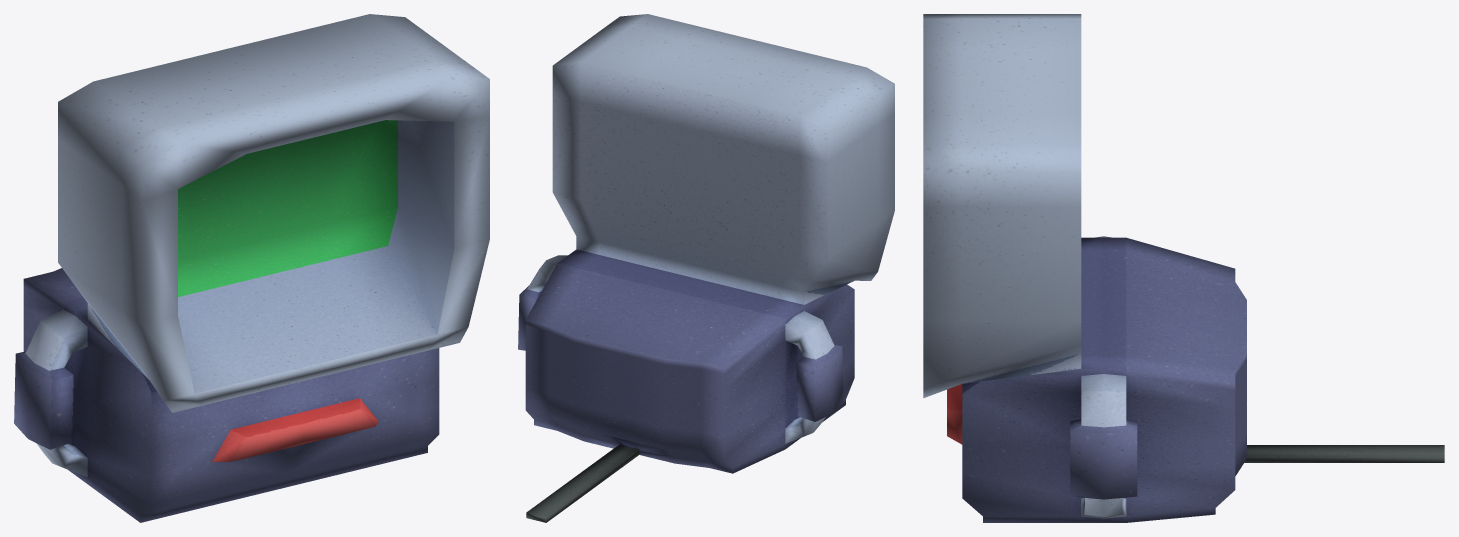
The model's file is terminal.glb.
3 renders of one model, left to right at view 1: azimuth 30°, elevation 25°; view 2: azimuth 150°, elevation 25°; view 3: azimuth 270°, elevation 25°, orthographic. The views are drawn at different scales.
Visible parts, largest first — view 1: computer terminal; view 2: computer terminal; view 3: computer terminal.
Boxes of the visible parts, x1,y1,x2,y2 form: computer terminal: (14, 14, 489, 522); computer terminal: (518, 14, 894, 522); computer terminal: (923, 14, 1444, 522).
Size of the model in its own units: 64.43 by 64.5 by 81.23.
1 material, 1 textured.
